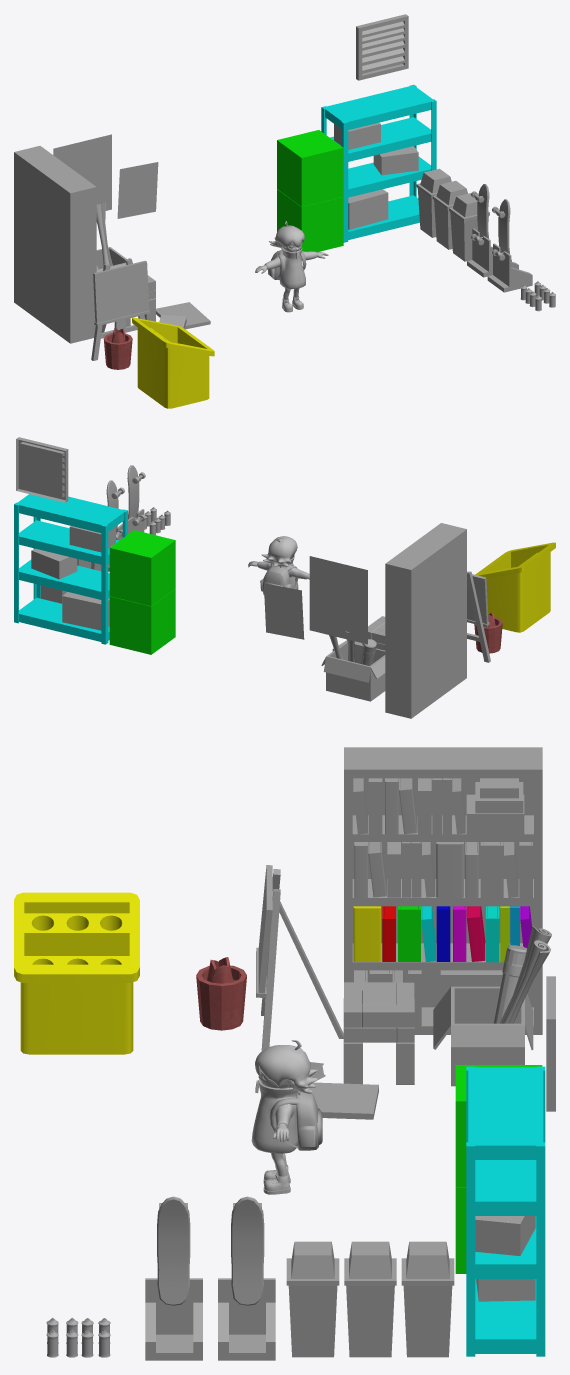
File: secretbase.fbx
3 renders of one model, top to bottom at view 1: azimuth 30°, elevation 25°; view 2: azimuth 150°, elevation 25°; view 3: azimuth 270°, elevation 25°, orthographic. The views are drawn at different scales.
Visible parts, largest first — view 1: polySurface1, speedrack, umstand, locker1, vent, canvas1, locker2, post1, pCube17 (×3), post2, boardcase (×2), pCube18 (×3) (+10 smaller); view 2: polySurface1, speedrack, umstand, post1, locker1, locker2, vent, box, post2, pCube28, pCube27, easel (+8 smaller); view 3: polySurface1, speedrack, umstand, pCube17 (×3), boardcase (×2), plane (×2), pCube18 (×3), box, chair, easel, pCylinder1, clothes (+33 smaller).
Part boxes in pixels (left/top/right/bottom): polySurface1: left=14, top=146, right=96, bottom=343; speedrack: left=321, top=84, right=436, bottom=242; umstand: left=132, top=317, right=214, bottom=408; locker1: left=277, top=130, right=343, bottom=206; vent: left=356, top=14, right=408, bottom=80; canvas1: left=93, top=260, right=149, bottom=322; locker2: left=277, top=189, right=343, bottom=252; post1: left=53, top=134, right=111, bottom=210; pCube17 (×3): left=417, top=188, right=488, bottom=261; post2: left=117, top=162, right=158, bottom=218; boardcase (×2): left=467, top=228, right=532, bottom=292; pCube18 (×3): left=416, top=168, right=489, bottom=221; polySurface1: left=385, top=523, right=466, bottom=718; speedrack: left=14, top=494, right=127, bottom=644; umstand: left=475, top=542, right=555, bottom=632; post1: left=309, top=556, right=367, bottom=644; locker1: left=109, top=530, right=175, bottom=606; locker2: left=109, top=589, right=175, bottom=654; vent: left=16, top=437, right=68, bottom=502; box: left=321, top=641, right=385, bottom=701; post2: left=263, top=583, right=304, bottom=639; pCube28: left=62, top=592, right=109, bottom=630; pCube27: left=31, top=548, right=77, bottom=579; easel: left=467, top=571, right=490, bottom=662; polySurface1: left=344, top=747, right=542, bottom=1034; speedrack: left=466, top=1066, right=545, bottom=1356; umstand: left=14, top=892, right=139, bottom=1054; pCube17 (×3): left=288, top=1285, right=452, bottom=1357; boardcase (×2): left=145, top=1278, right=275, bottom=1360; plane (×2): left=157, top=1196, right=264, bottom=1305; pCube18 (×3): left=286, top=1241, right=454, bottom=1285; box: left=433, top=986, right=533, bottom=1086; chair: left=343, top=982, right=414, bottom=1084; easel: left=256, top=869, right=343, bottom=1051; pCylinder1: left=196, top=965, right=246, bottom=1030; clothes: left=251, top=1079, right=297, bottom=1153.
Size of the model in its own units: 9.42 by 4.19 by 6.17.
Materials: 22 (1 with a texture image).
